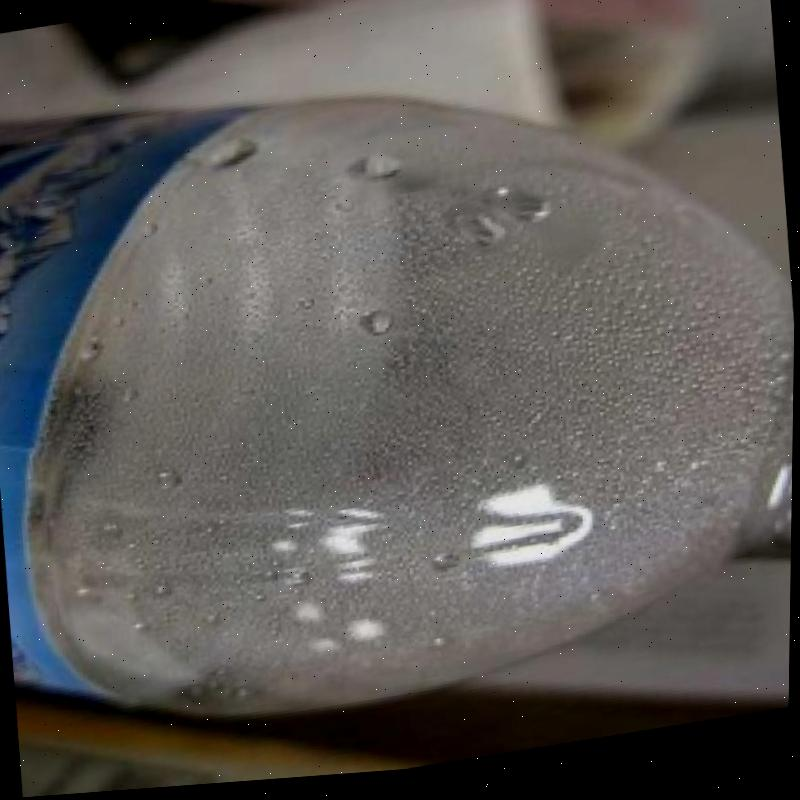botella: (0, 6, 799, 768)
